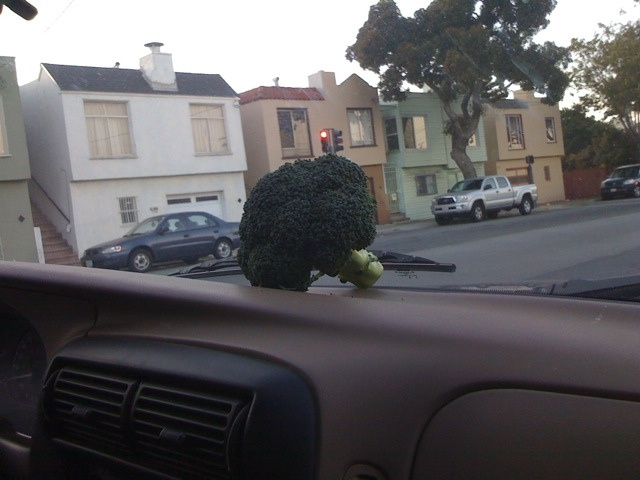car: (77, 210, 323, 480)
traffic light: (319, 129, 640, 281), (333, 128, 640, 281)
